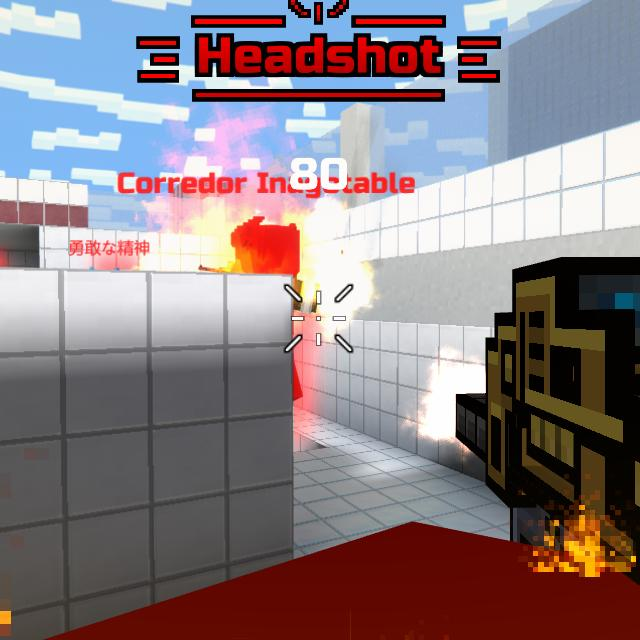Enemy: (230, 216, 300, 274)
